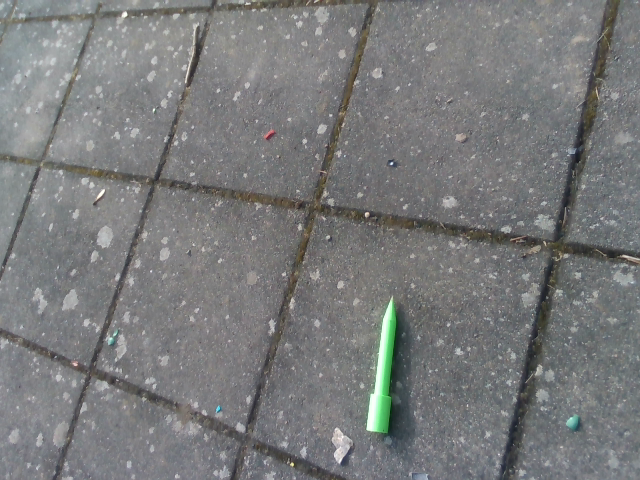Probe: (358, 284, 405, 447)
